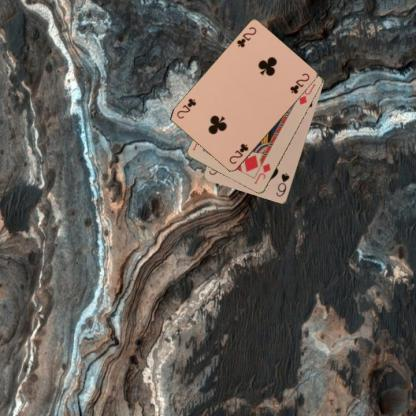2c: (234, 24, 258, 49), (226, 141, 249, 165)
6s: (273, 171, 291, 198)
Jd: (251, 160, 272, 186)
